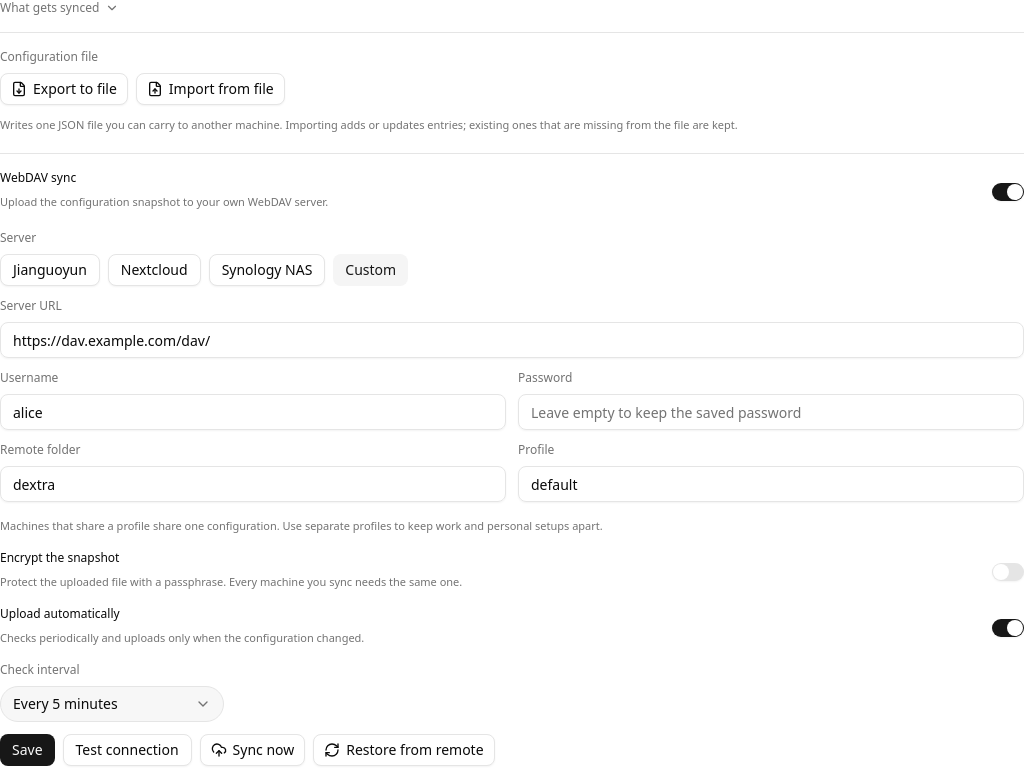
ConfigSyncSettings — file import › counts what will be applied, not what the file says about itself
This screenshot has width=1024, height=768.
Expected: the button "Save" is shown, [0,734,55,766]
Click the button "Import from file" at (210,89), box [136,73,285,105]
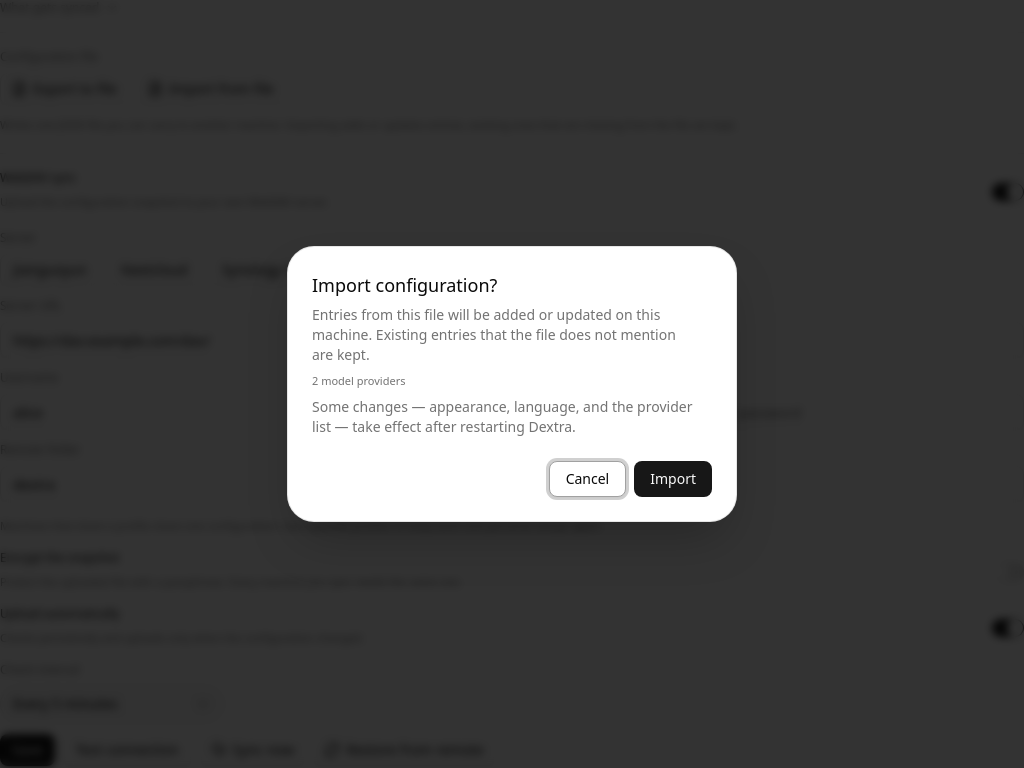
Now the heading "Import configuration?" is shown, box [312,271,497,299]
Now the list item "2 model providers" is shown, box [312,373,406,388]
